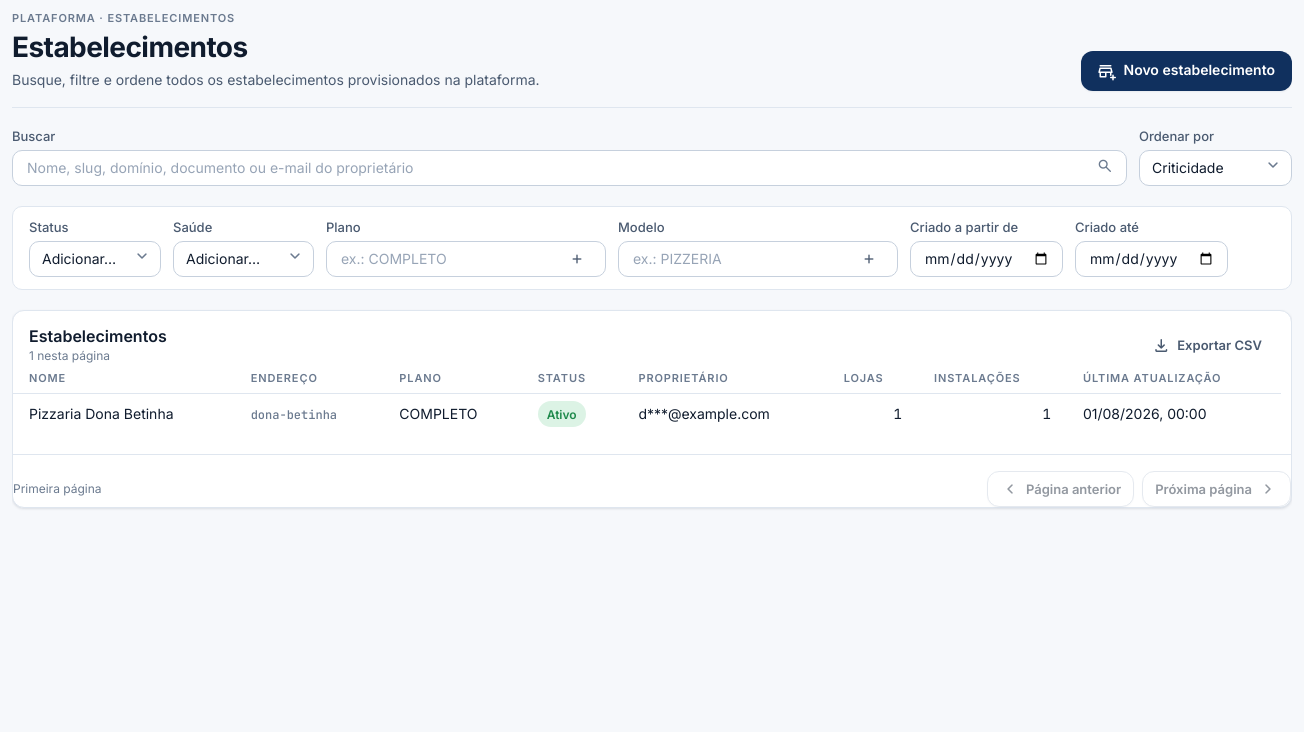
TenantsDirectoryPage › mostra estado "nenhum resultado" (distinto do vazio de base) quando a busca não encontra nada
The image size is (1304, 732).
Expected: the text "Pizzaria Dona Betinha" is shown, 13,394 -> 235,434
Step 1. Type "não existe" into the field labelled "Buscar" → (556, 168), box 25,157 -> 1088,179
Wait 400 ms
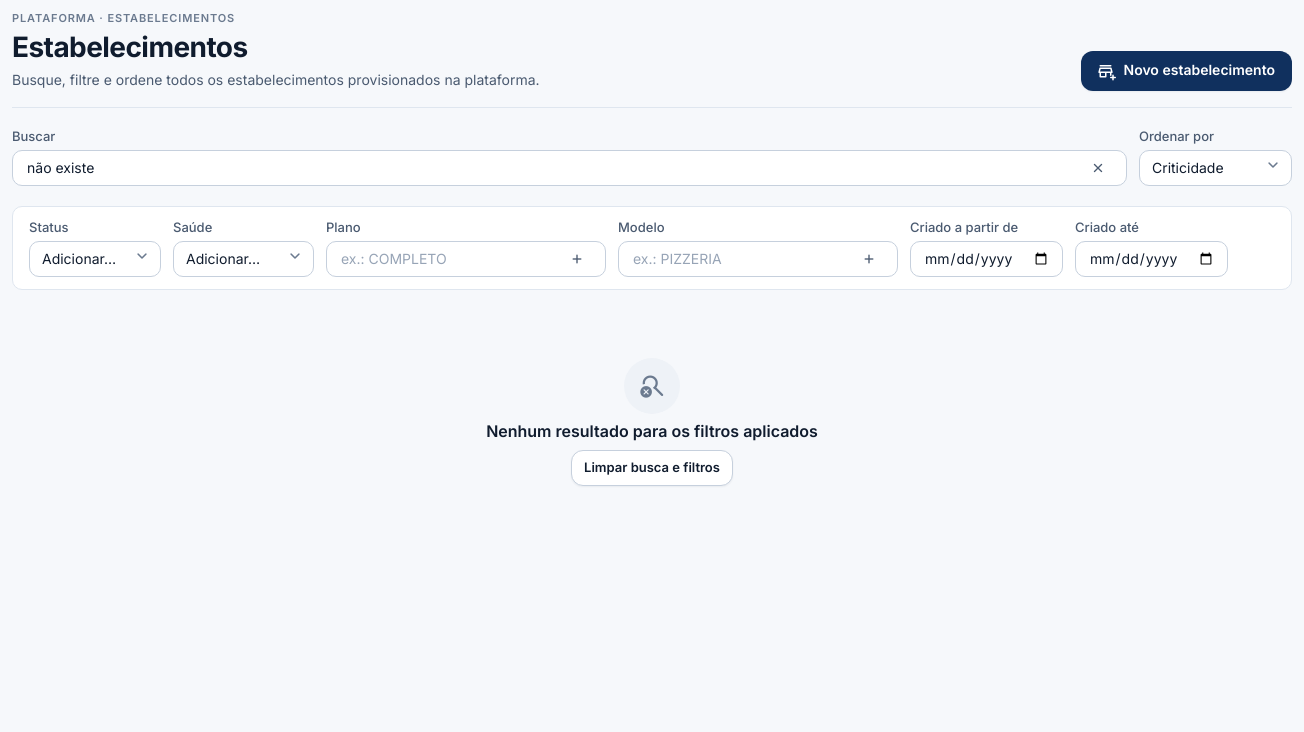
Now the text "Nenhum resultado para os filtros aplicados" is shown, box 486,422 -> 818,442
